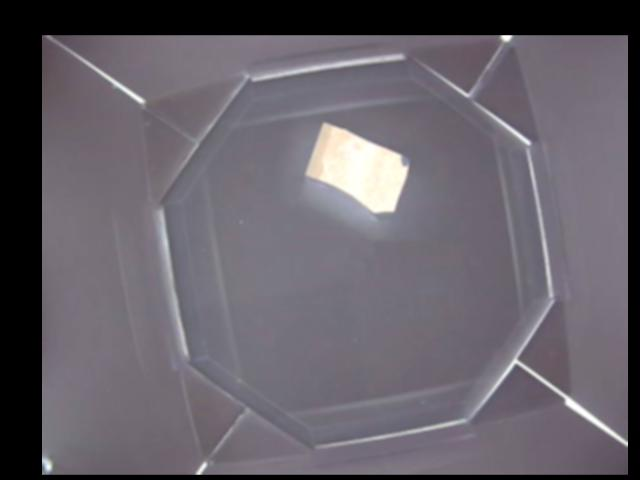China: (305, 120, 410, 215)
